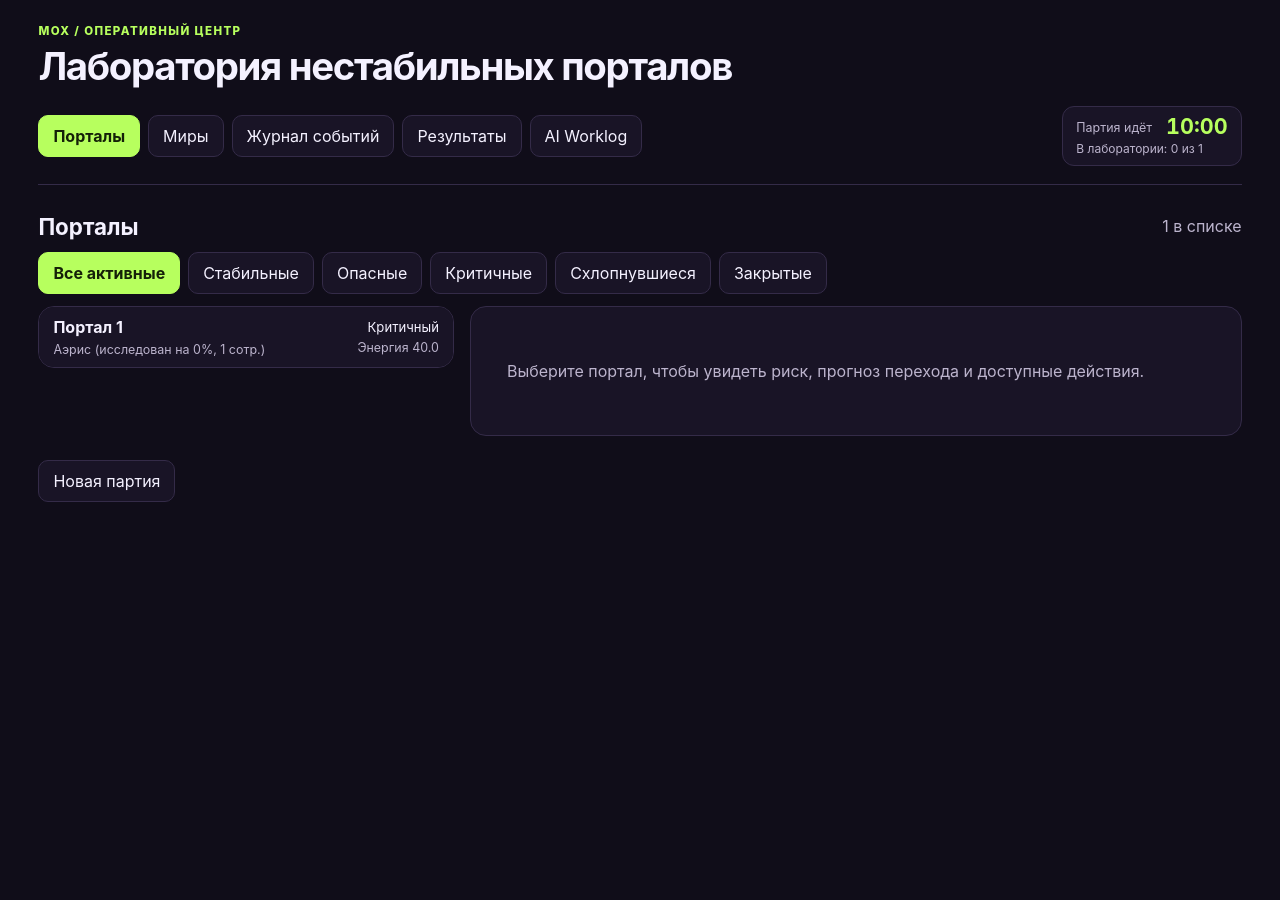
Scenario: App › возвращает сотрудника через критичный портал при достаточной энергии
Click the button "Портал 1" at (88, 327), box [39,307,453,367]
(page scrolled)
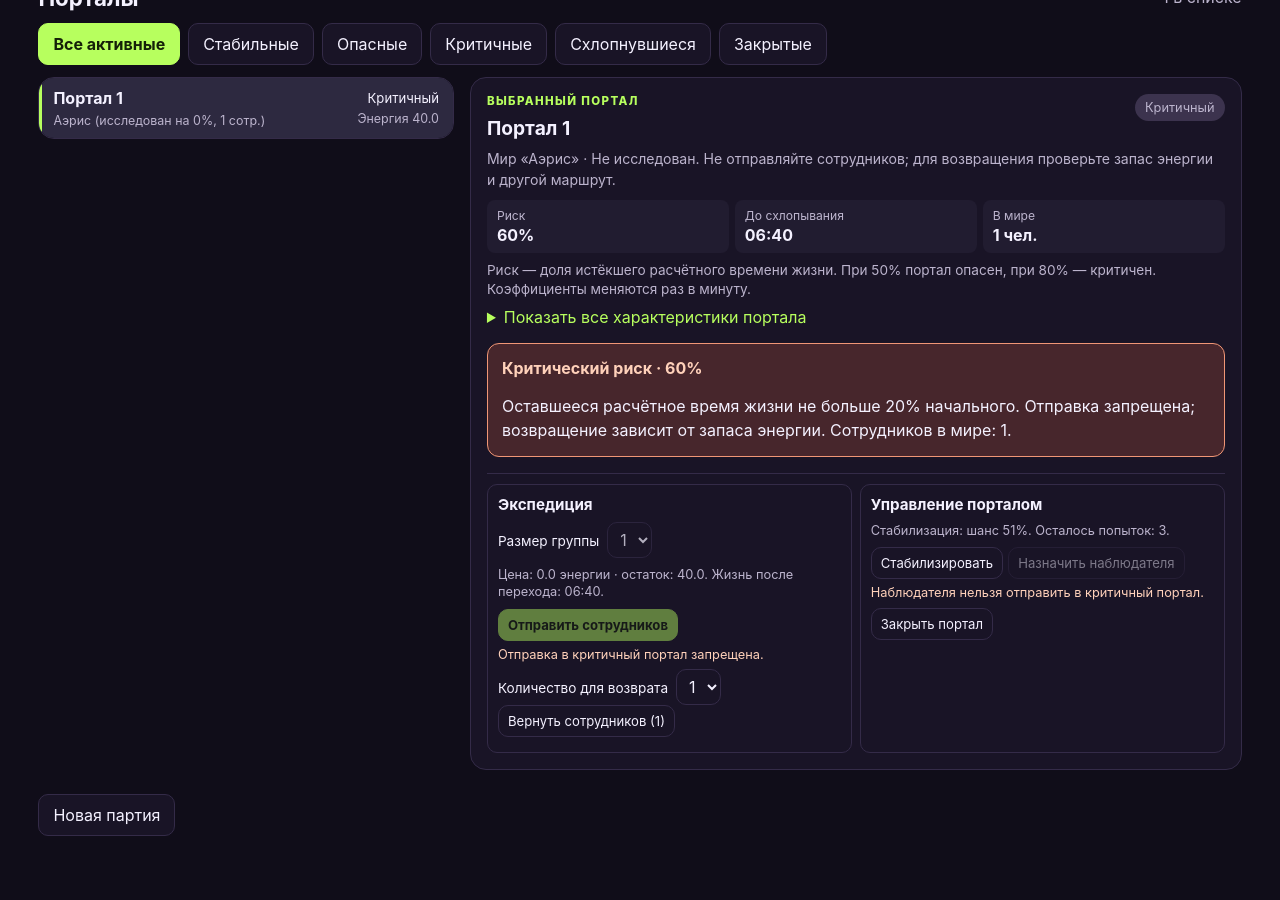
expect the button "Вернуть сотрудников (1)" is enabled: met
Click the button "Вернуть сотрудников (1)" at (586, 721), box [498,705,675,737]
(page scrolled)
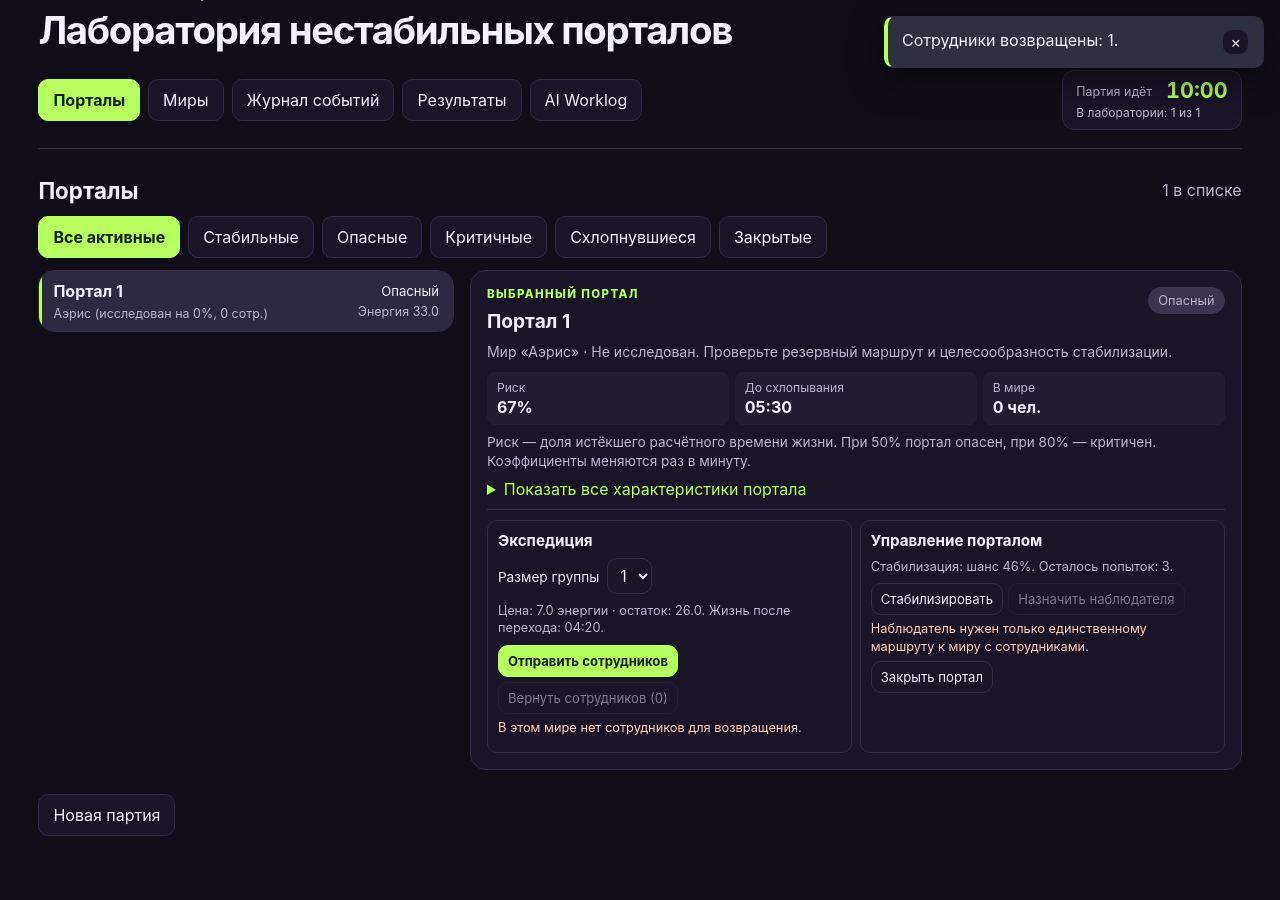
expect the text "В лаборатории: 1 из 1" is shown: met, box [1076,105,1200,120]
